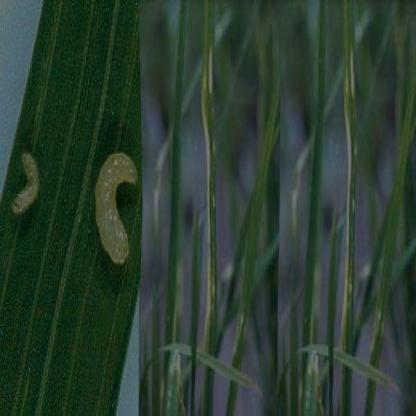whorl-maggot: (90, 143, 139, 269), (6, 146, 42, 222)
